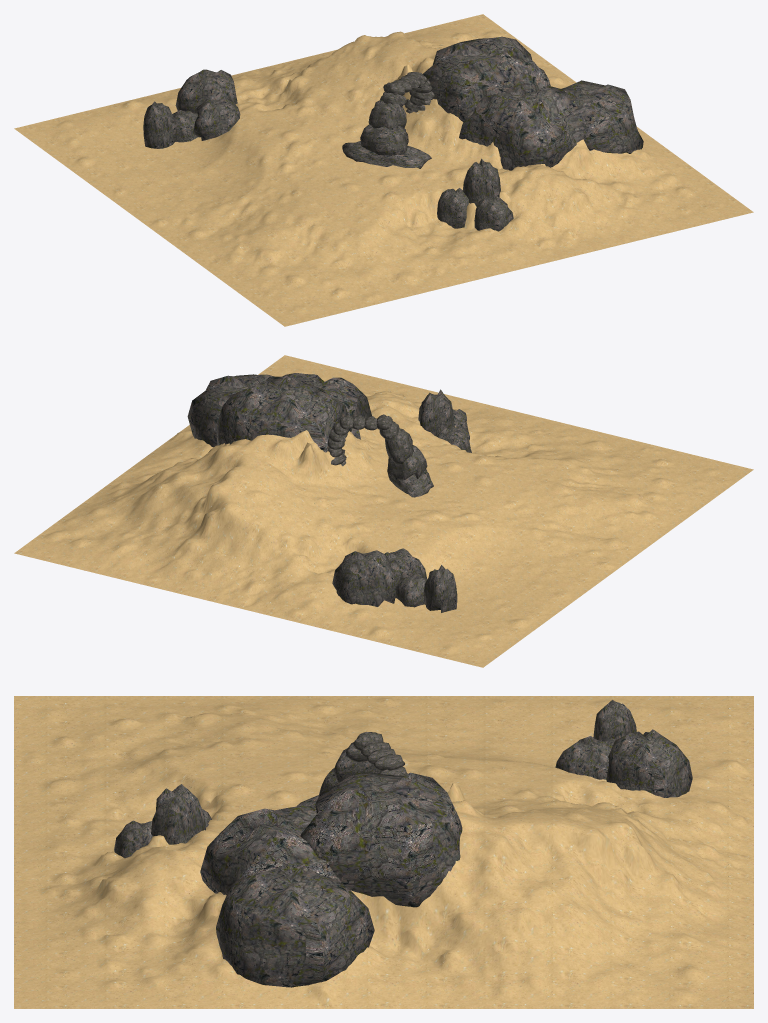
The model's file is island.obj.
3 renders of one model, top to bottom at view 1: azimuth 30°, elevation 25°; view 2: azimuth 150°, elevation 25°; view 3: azimuth 270°, elevation 25°, orthographic. The views are drawn at different scales.
Parts seen in each view (by area): view 1: terrain, rocks; view 2: terrain, rocks; view 3: terrain, rocks.
Part boxes in pixels (x1,y1,x2,y2): terrain: (14, 14, 753, 326); rocks: (143, 36, 643, 231); terrain: (14, 355, 753, 667); rocks: (187, 373, 471, 612); terrain: (14, 696, 753, 1008); rocks: (114, 700, 692, 987).
Size of the model in its own units: 711 by 170 by 711.
Materials: 2 (2 with a texture image).
